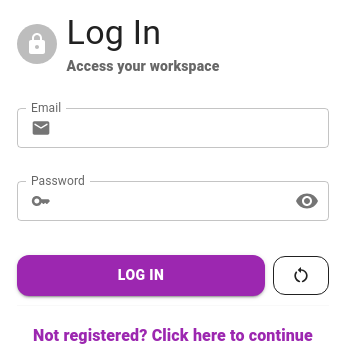
Test case: LogInForm › surfaces backend validation errors on failed login
The image size is (346, 361).
In the field labelled "Email": (194, 128) [59,108,329,148], type "user@example.com"
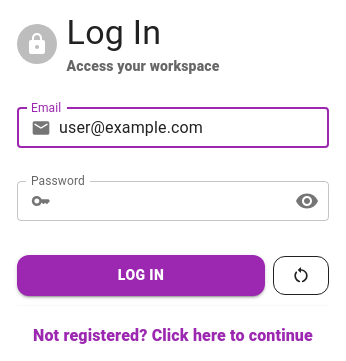
In the password field labelled "Password": (169, 201) [59,181,279,221], type "abc123"
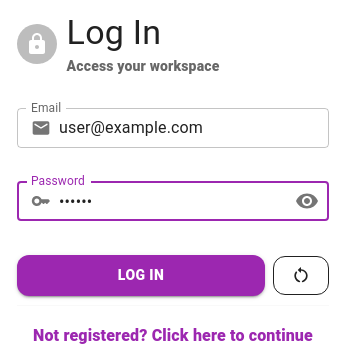
Click the button "Log in": (141, 275) [17,255,265,296]
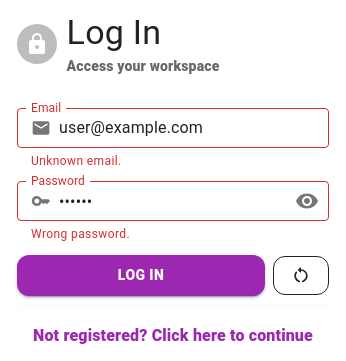
Check: the text "Unknown email." is shown, box [31,154,122,168]
Check: the text "Wrong password." is shown, box [31,227,130,241]
